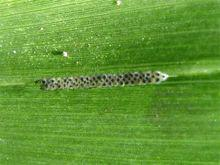pest: (29, 63, 177, 98)
